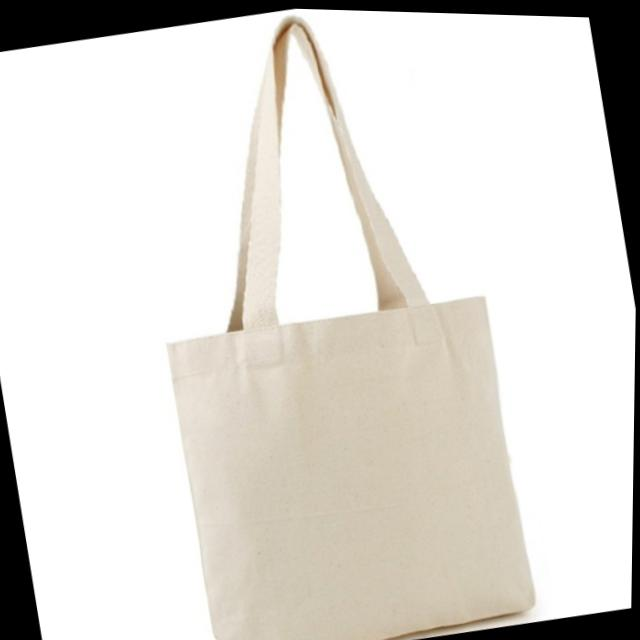ecobag: (102, 3, 576, 640)
